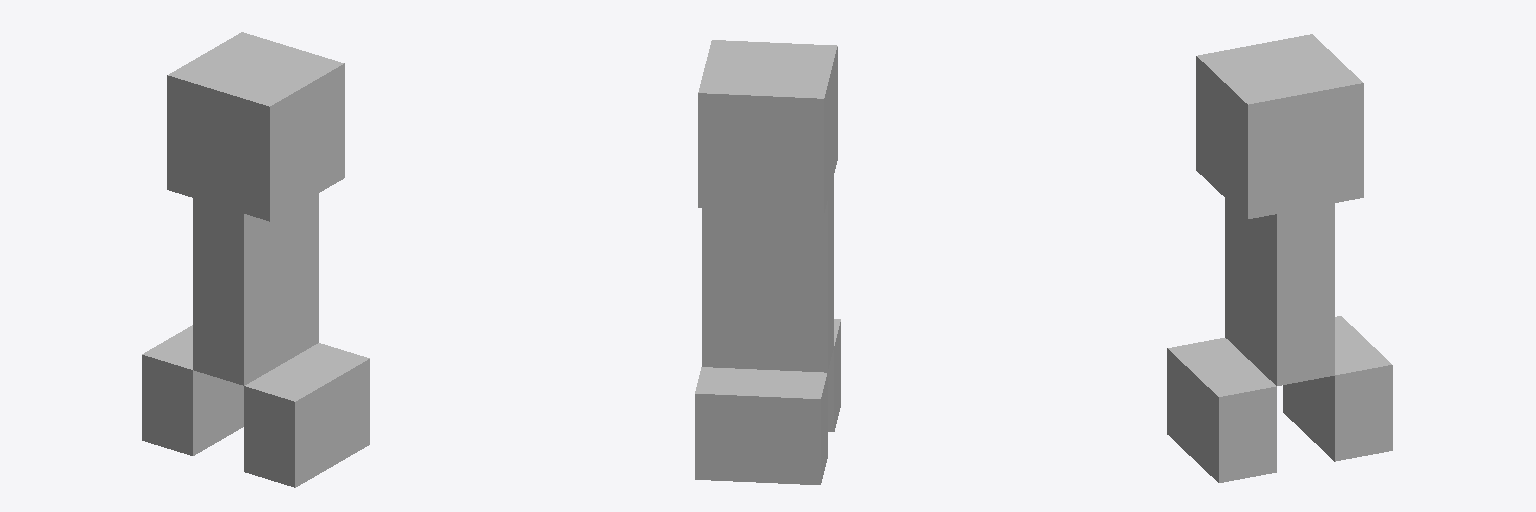
The model's file is creeper.obj.
The picture shows the model from 3 angles: view 1: azimuth 30°, elevation 25°; view 2: azimuth 150°, elevation 25°; view 3: azimuth 270°, elevation 25°; orthographic projection.
Parts seen in each view (by area): view 1: node_6_Mesh_5, node_5_Mesh_4, node_2_Mesh_1, node_4_Mesh_3, node_1_Mesh_0, node_3_Mesh_2; view 2: node_6_Mesh_5, node_5_Mesh_4, node_4_Mesh_3, node_3_Mesh_2, node_2_Mesh_1; view 3: node_6_Mesh_5, node_5_Mesh_4, node_1_Mesh_0, node_3_Mesh_2, node_2_Mesh_1, node_4_Mesh_3.
Part boxes in pixels (x1,y1,x2,y2): node_6_Mesh_5: (167,32,344,221); node_5_Mesh_4: (193,193,318,385); node_2_Mesh_1: (244,364,332,487); node_4_Mesh_3: (142,333,229,455); node_1_Mesh_0: (282,343,369,465); node_3_Mesh_2: (180,325,243,434); node_6_Mesh_5: (698,40,837,213); node_5_Mesh_4: (702,177,833,372); node_4_Mesh_3: (758,370,827,484); node_3_Mesh_2: (695,367,763,482); node_2_Mesh_1: (828,319,840,431); node_6_Mesh_5: (1196,34,1363,218); node_5_Mesh_4: (1225,198,1334,385); node_1_Mesh_0: (1193,362,1276,482); node_3_Mesh_2: (1309,340,1392,461); node_2_Mesh_1: (1167,338,1250,457); node_4_Mesh_3: (1283,316,1365,436).
Size of the model in its own units: 0.761 by 1.62 by 0.8883.